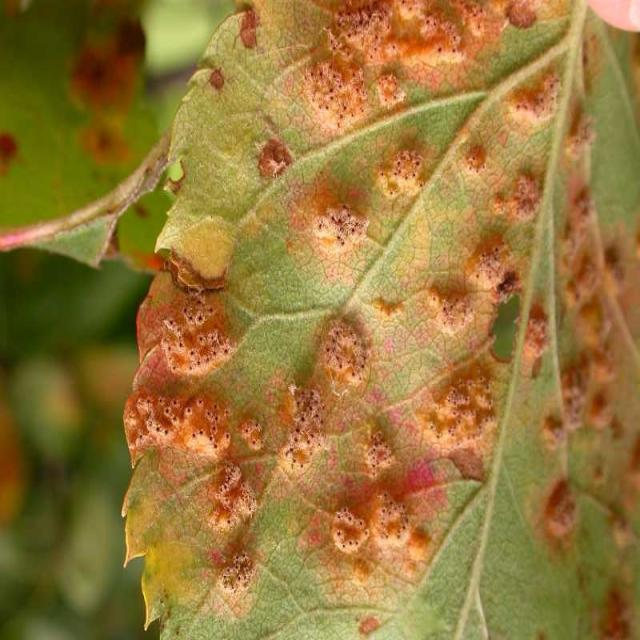Gymnosporangium_Rusts: (117, 1, 627, 636)
